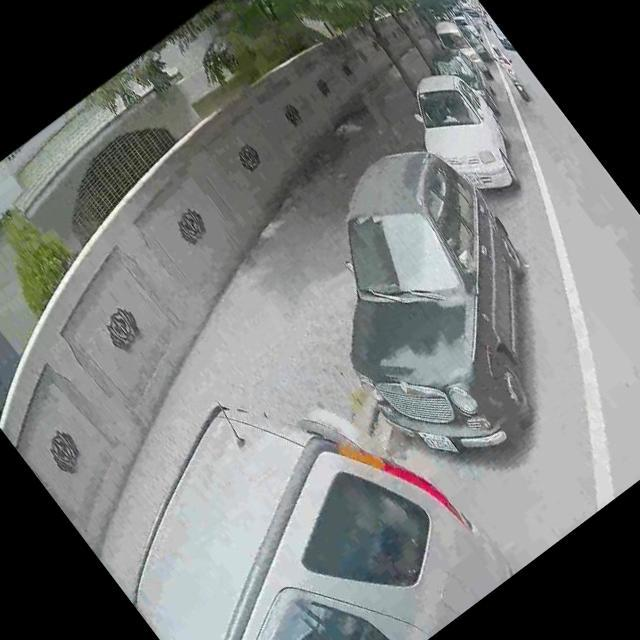person: (489, 44, 508, 66)
